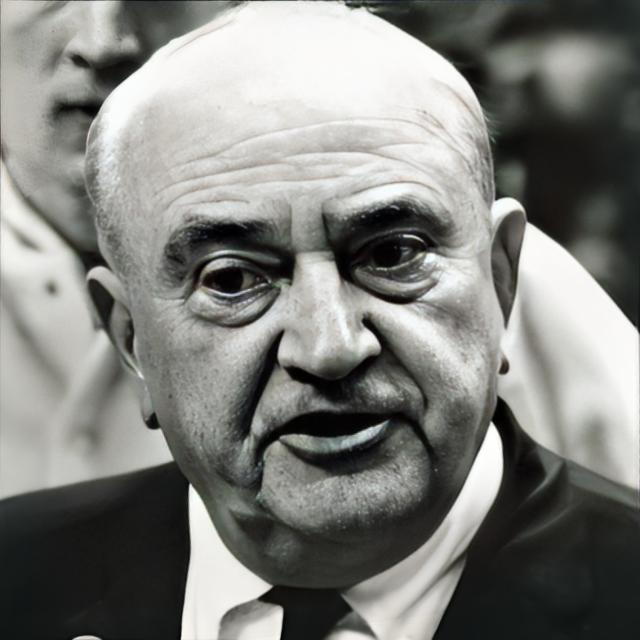anger: (132, 84, 506, 536)
